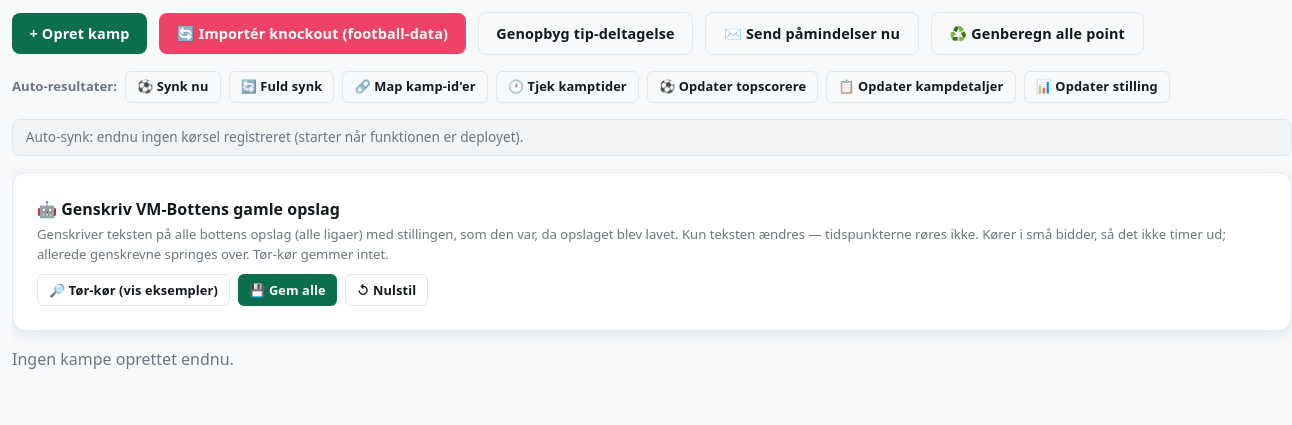
Scenario: MatchesTab › viser fejlbesked ved mislykket import
Step 1. Click the button "🔄 Importér knockout (football-data)" → (312, 33), box [159,13,466,54]
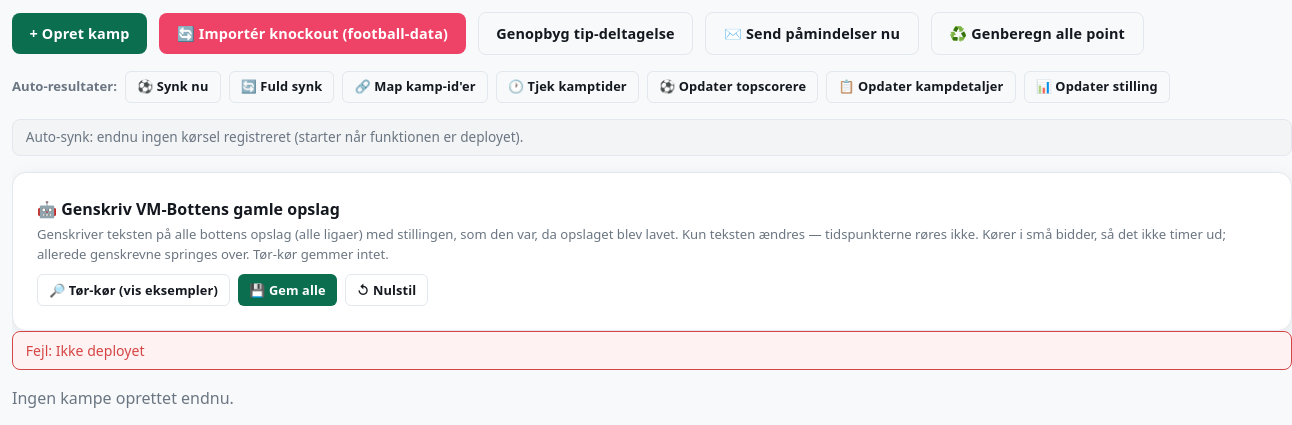
Check: the message "Fejl: Ikke deployet" is shown, box [12,331,1291,370]
